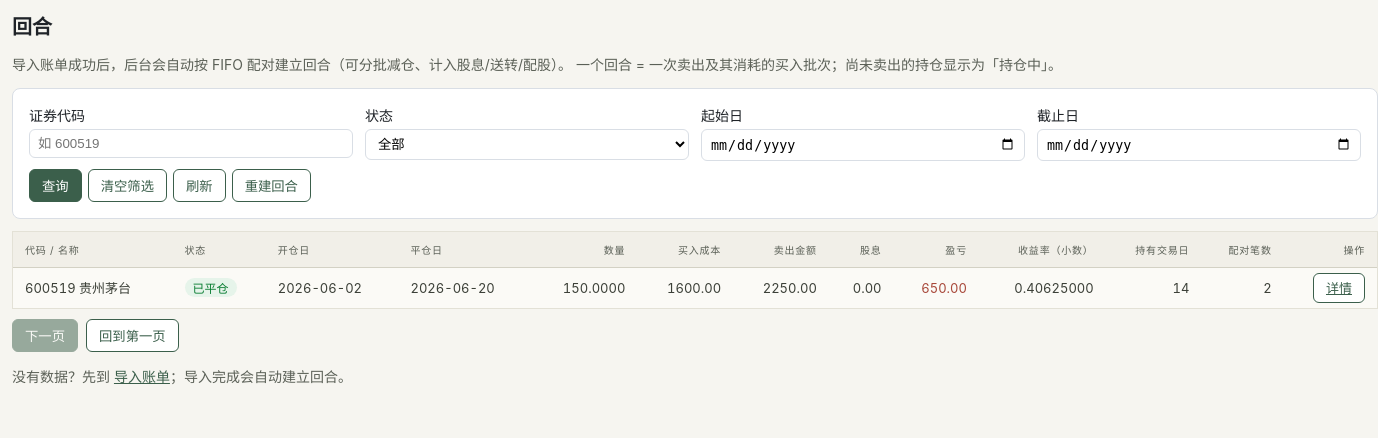
Test: Rounds 回合列表页 › 「重建回合」提交异步任务并轮询到成功后刷新列表
This screenshot has width=1378, height=438.
Expected: the text "600519 贵州茅台" is shown, [13,268,172,308]
Step 1. Click the button "重建回合" → {"x": 271, "y": 185}, box [232,169,311,202]
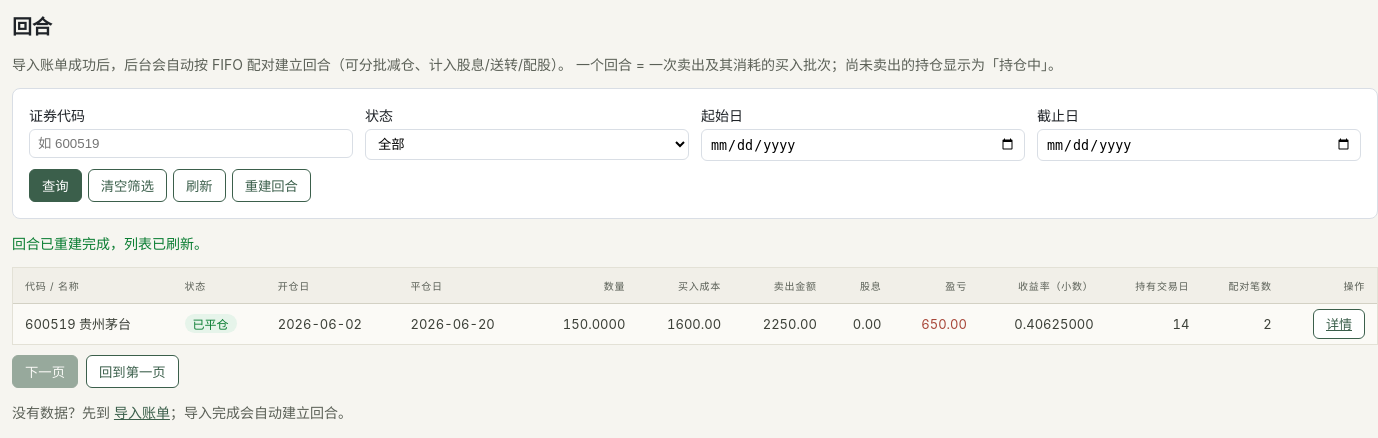
Expected: the text "回合已重建完成，列表已刷新。" is shown, [12,235,208,252]
